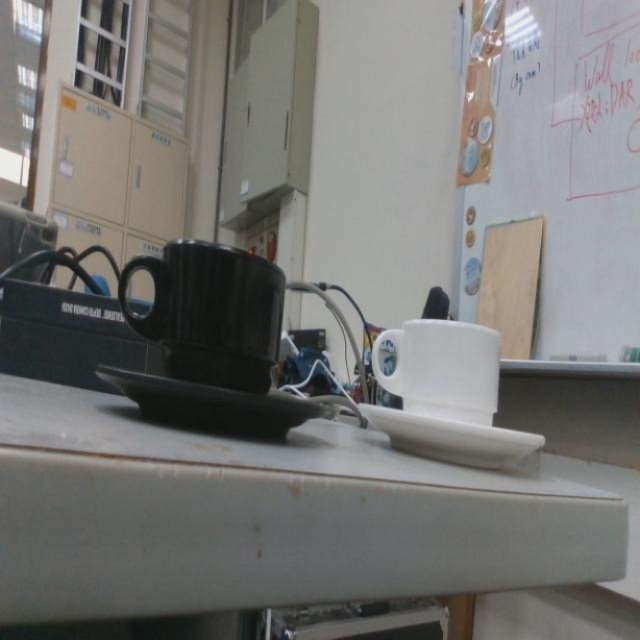black: (91, 231, 337, 448)
white: (354, 312, 548, 474)
